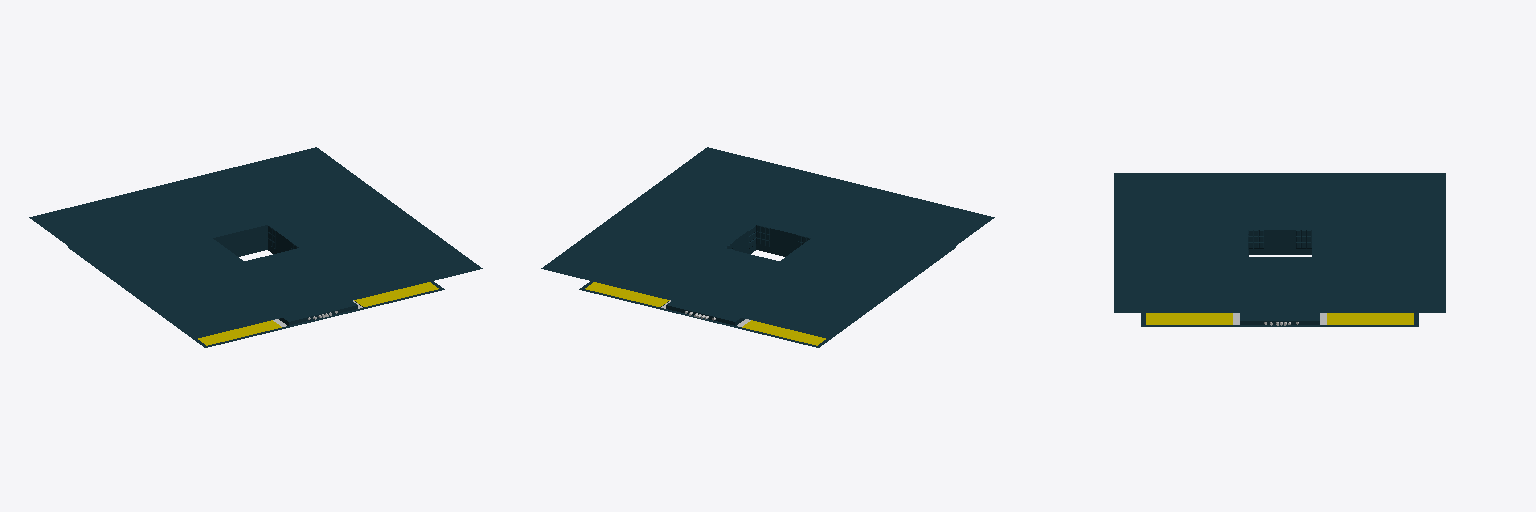
Rendered from WallNew.obj.
3 renders of one model, left to right at view 1: azimuth 30°, elevation 25°; view 2: azimuth 150°, elevation 25°; view 3: azimuth 270°, elevation 25°, orthographic.
Visible parts, largest first — view 1: Wall_Cube_Cube.001, Tiles_Cube_Cube.003; view 2: Wall_Cube_Cube.001, Tiles_Cube_Cube.003; view 3: Wall_Cube_Cube.001, Tiles_Cube_Cube.003.
Part boxes in pixels (x1,y1,x2,y2): Wall_Cube_Cube.001: (29, 147, 482, 347); Tiles_Cube_Cube.003: (198, 282, 438, 345); Wall_Cube_Cube.001: (541, 147, 994, 347); Tiles_Cube_Cube.003: (585, 282, 825, 345); Wall_Cube_Cube.001: (1114, 173, 1445, 326); Tiles_Cube_Cube.003: (1146, 313, 1413, 324).
Size of the model in its own units: 2.4 by 0.205 by 2.4.